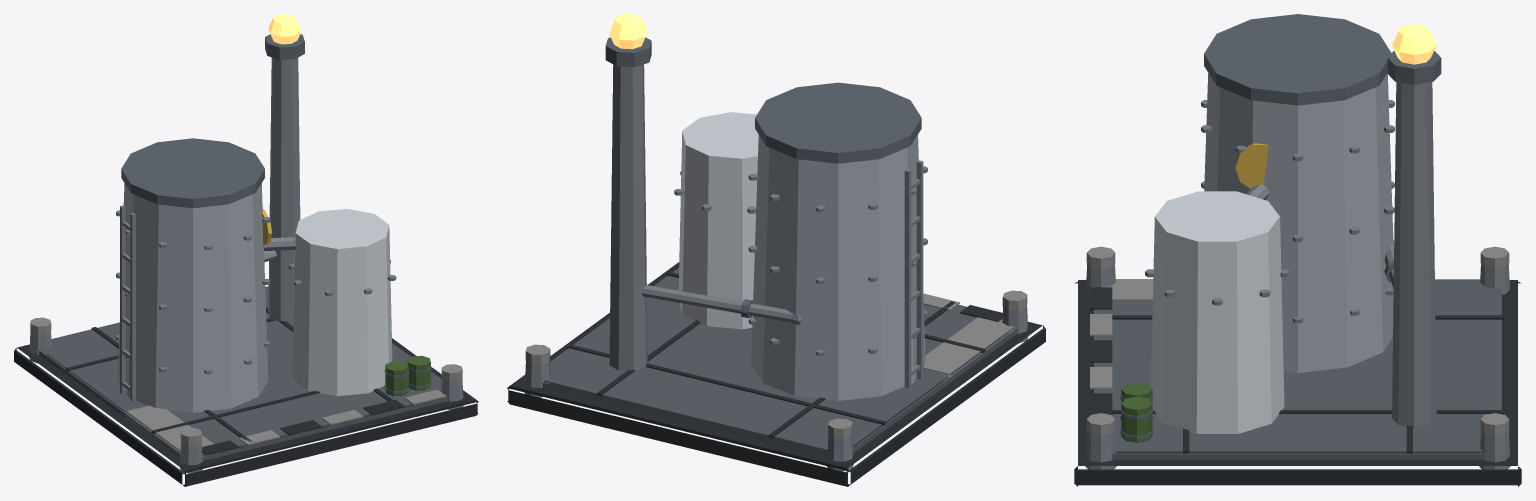
File: con_refinery.glb
The picture shows the model from 3 angles, left to right: view 1: azimuth 30°, elevation 25°; view 2: azimuth 150°, elevation 25°; view 3: azimuth 270°, elevation 25°; orthographic projection. The views are drawn at different scales.
Visible parts, largest first — view 1: body; view 2: body; view 3: body.
Boxes of the visible parts, x1,y1,x2,y2 form: body: (14,14,478,486); body: (507,14,1045,486); body: (1074,14,1521,486).
Bounding box in the file's own units: 48 × 49.92 × 48.
